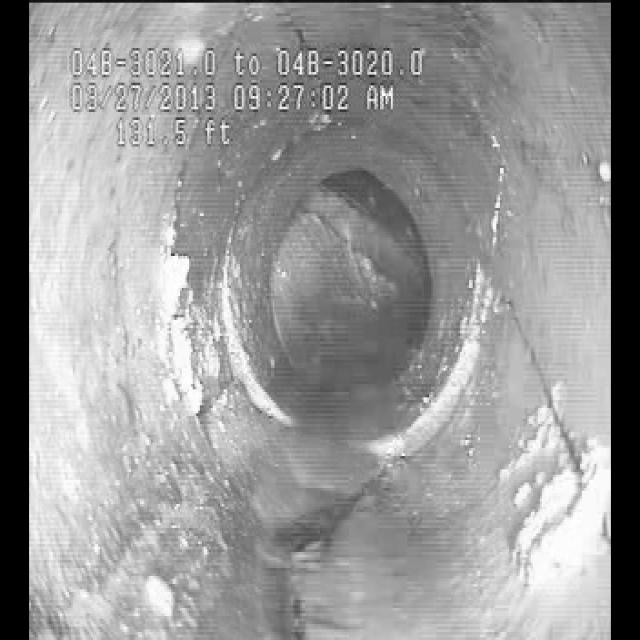Fracture: (454, 230, 602, 550)
